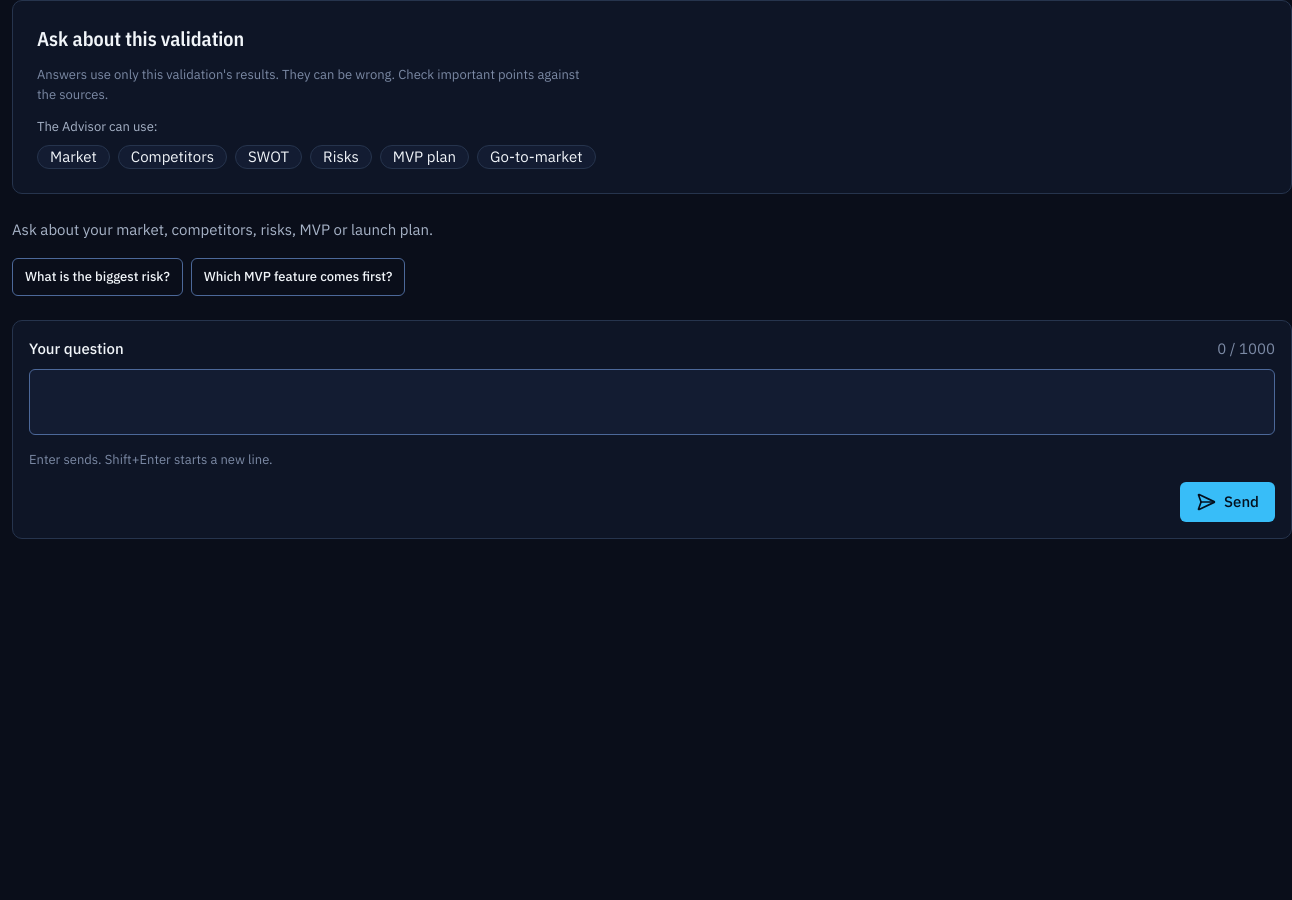
Test: Advisor: errors keep the draft › says the AI service is busy when the provider fails
The width and height of the screenshot is (1292, 900).
Type "Which risk matters most?" into the text box labelled "Your question". click: (652, 402)
box: [29,369,1275,435]
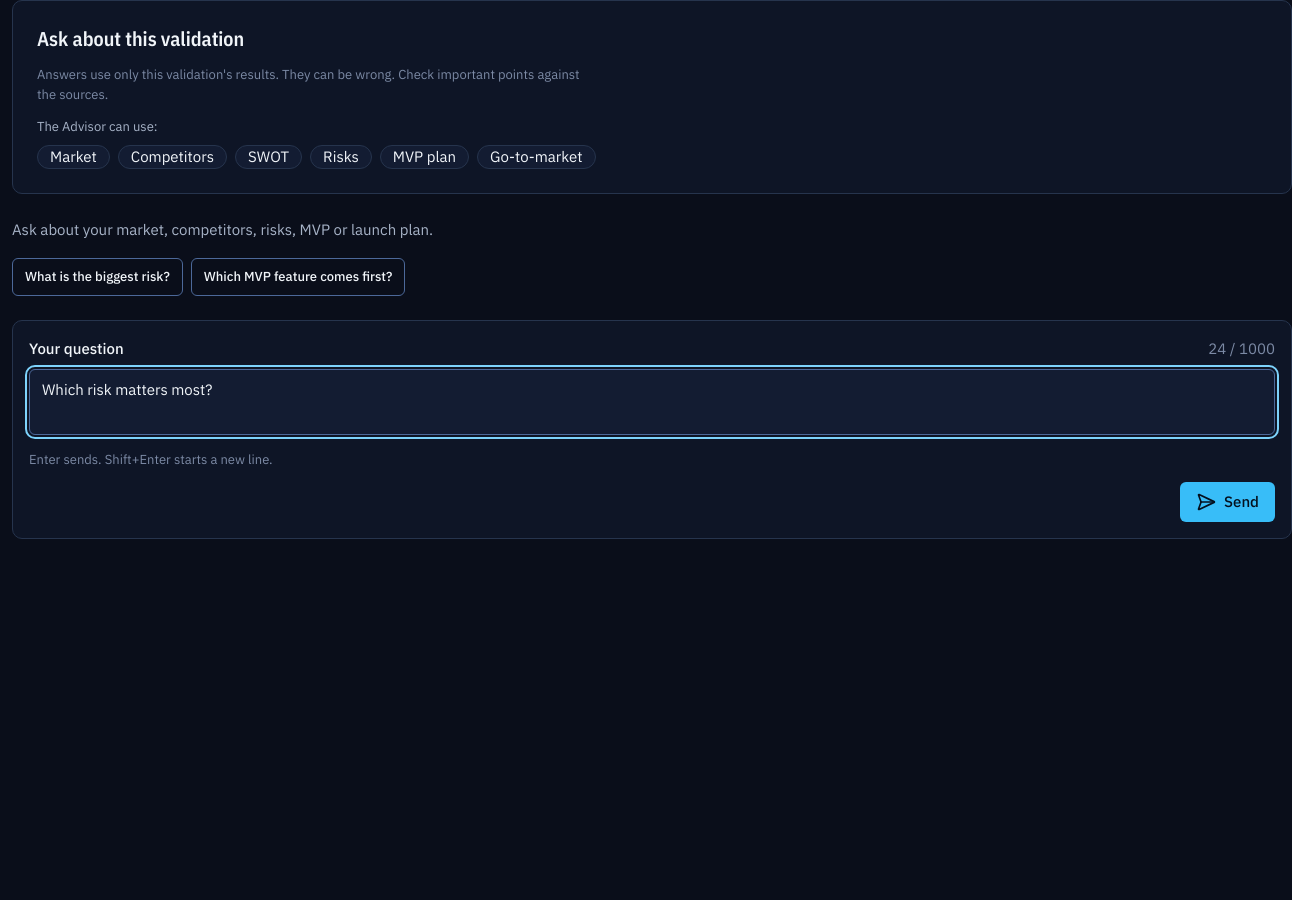
Click the button "Send". click: (1228, 502)
box: [1180,482,1275,522]
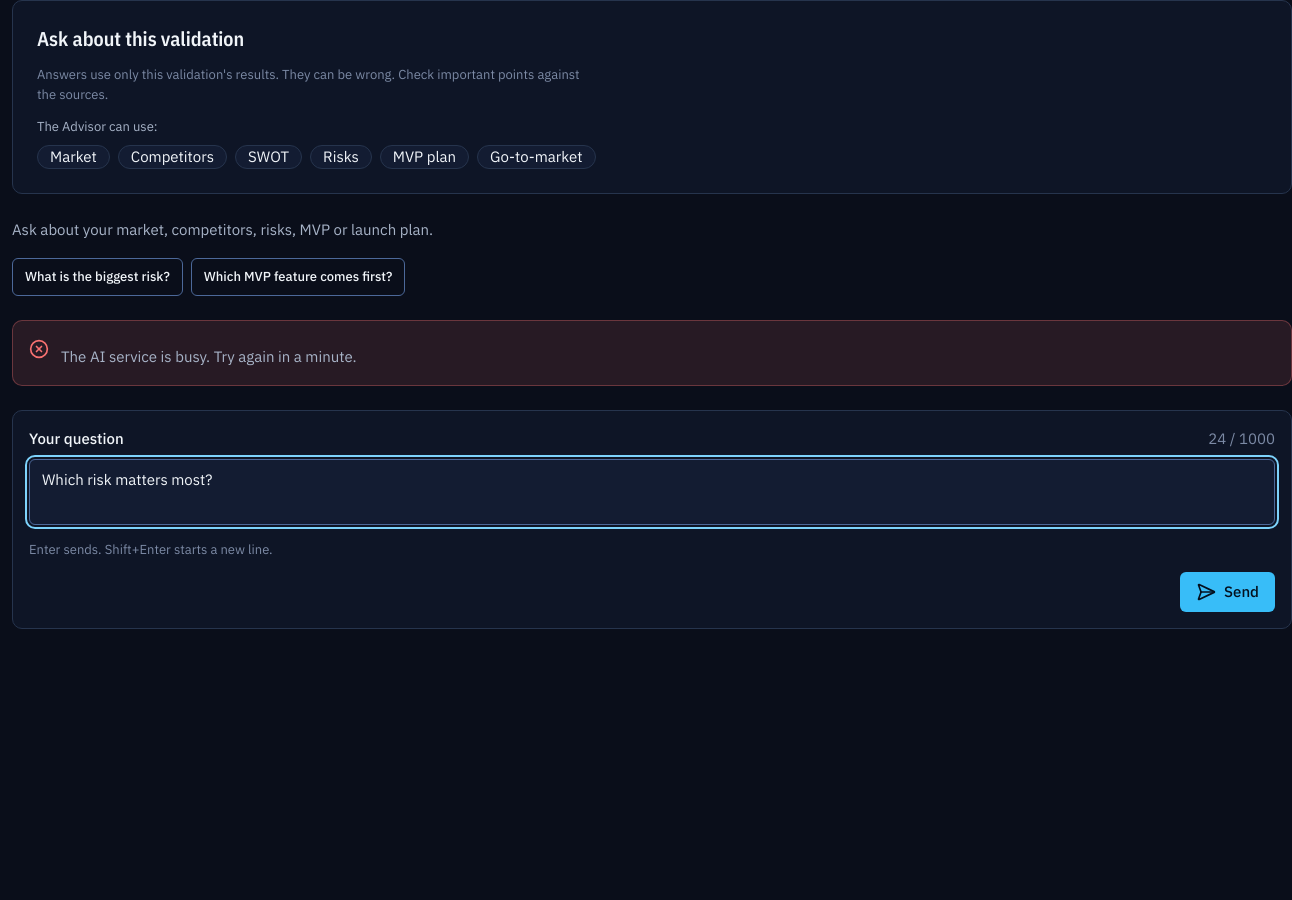
Check: the text "The AI service is busy. Try again in a minute." is shown, box [61,347,356,366]
